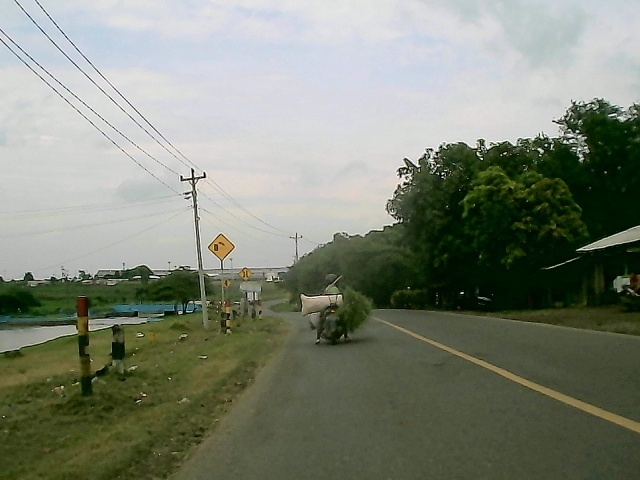Peringatan tepi air: (204, 229, 238, 263)
